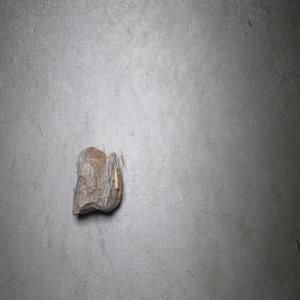Rock: (72, 143, 123, 215)
